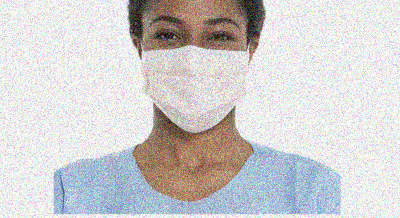with_mask: (142, 13, 249, 133)
